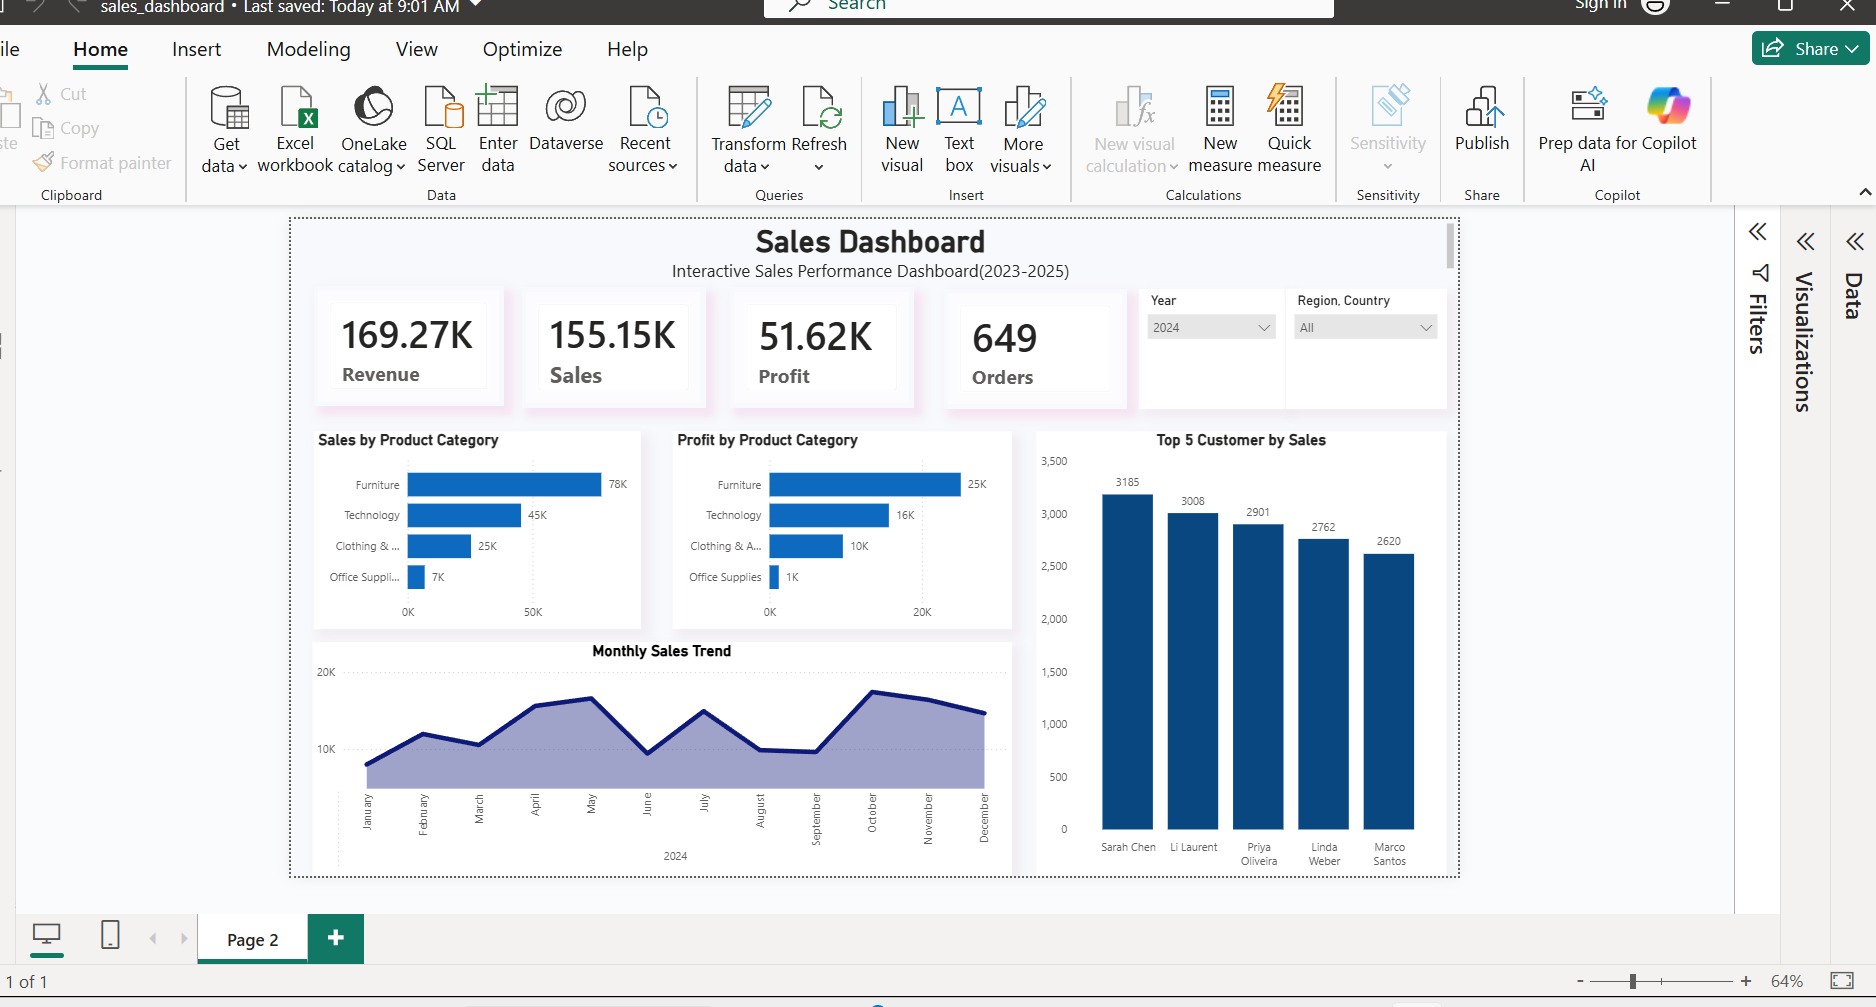

The page's visual inventory and layout, read from the dashboard file:
{"tool":"powerbi","page":{"name":"Page 2","canvas":[1280,720],"ordinal":0},"visuals":[{"type":"cardVisual","title":"Total Revenue","fields":{"Data":["Sum(Sales_Dashboard_Data.Total_revenue)"]},"box":[25,73.3,208.3,131.7],"z":0},{"type":"clusteredBarChart","title":"Sales by Product Category","fields":{"Category":["Sales_Dashboard_Data.Product_Category"],"Y":["Sum(Sales_Dashboard_Data.Total_Sales)"]},"box":[25,233.3,358.3,216.7],"z":1000},{"type":"clusteredBarChart","title":"Profit by Product Category","fields":{"Category":["Sales_Dashboard_Data.Product_Category"],"Y":["Sum(Sales_Dashboard_Data.Profit)"]},"box":[418.3,233.3,371.7,216.7],"z":2000},{"type":"lineChart","title":"Monthly Sales Trend","fields":{"Category":["Sales_Dashboard_Data.Year","Sales_Dashboard_Data.Month.Variation.Date Hierarchy.Month"],"Y":["Sum(Sales_Dashboard_Data.Total_Sales)"]},"box":[23.3,463.3,766.7,256.7],"z":3000},{"type":"slicer","fields":{"Values":["Sales_Dashboard_Data.Year"]},"box":[930,76.7,160,131.7],"z":4000},{"type":"slicer","fields":{"Values":["Sales_Dashboard_Data.Region","Sales_Dashboard_Data.Country"]},"box":[1090,76.7,176.7,131.7],"z":5000},{"type":"cardVisual","title":"Total Revenue","fields":{"Data":["Sum(Sales_Dashboard_Data.Total_Sales)"]},"box":[253.3,75,201.7,131.7],"z":6000},{"type":"cardVisual","title":"Total Revenue","fields":{"Data":["Sum(Sales_Dashboard_Data.Profit)"]},"box":[481.7,75,201.7,131.7],"z":7000},{"type":"cardVisual","title":"Total Revenue","fields":{"Data":["Sales_Dashboard_Data.Total Orders"]},"box":[715,76.7,201.7,131.7],"z":8000},{"type":"textbox","box":[0,0,1280,73.3],"z":9000},{"type":"clusteredColumnChart","title":"Top 5 Customer by Sales","fields":{"Y":["Sum(Sales_Dashboard_Data.Total_Sales)"],"Category":["Sales_Dashboard_Data.Customer_Name"]},"box":[816.7,233.3,450,486.7],"z":10000}]}

Visuals, with their boxes on the page's 1280x720 design canvas (x1, y1, x2, y2). These are canvas units, not pixel positions in the 1876x1007 screenshot, which may show the page scaled, cropped or inside an application window:
"Total Revenue" cardVisual: <region>25, 73, 233, 205</region>
"Sales by Product Category" clusteredBarChart: <region>25, 233, 383, 450</region>
"Profit by Product Category" clusteredBarChart: <region>418, 233, 790, 450</region>
"Monthly Sales Trend" lineChart: <region>23, 463, 790, 720</region>
slicer - Sales_Dashboard_Data.Year: <region>930, 77, 1090, 208</region>
slicer - Sales_Dashboard_Data.Region x Sales_Dashboard_Data.Country: <region>1090, 77, 1267, 208</region>
"Total Revenue" cardVisual: <region>253, 75, 455, 207</region>
"Total Revenue" cardVisual: <region>482, 75, 683, 207</region>
"Total Revenue" cardVisual: <region>715, 77, 917, 208</region>
textbox: <region>0, 0, 1280, 73</region>
"Top 5 Customer by Sales" clusteredColumnChart: <region>817, 233, 1267, 720</region>
